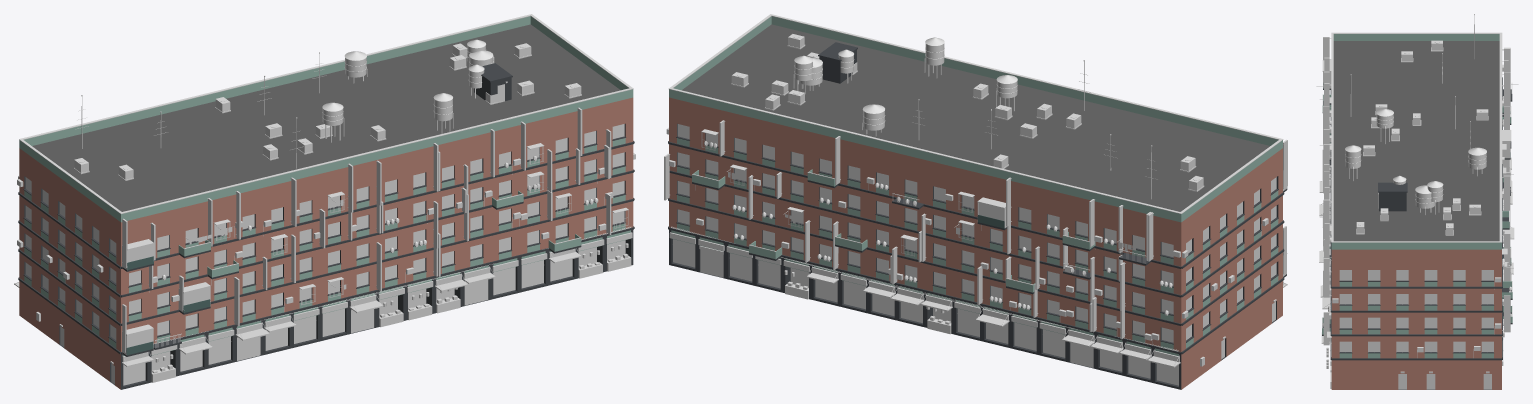
File: Plaza_Block_22.fbx
The picture shows the model from 3 angles, left to right: view 1: azimuth 30°, elevation 25°; view 2: azimuth 150°, elevation 25°; view 3: azimuth 270°, elevation 25°; orthographic projection. The views are drawn at different scales.
Visible parts, largest first — view 1: Plaza_Block_22_LOD0; view 2: Plaza_Block_22_LOD0; view 3: Plaza_Block_22_LOD0.
Boxes of the visible parts, box(x1,y1,x2,y2) form: Plaza_Block_22_LOD0: box(14, 14, 635, 389); Plaza_Block_22_LOD0: box(664, 14, 1287, 389); Plaza_Block_22_LOD0: box(1316, 14, 1518, 389).
Size of what is drawn, in the model's own units: 64.73 by 26.41 by 26.12.
